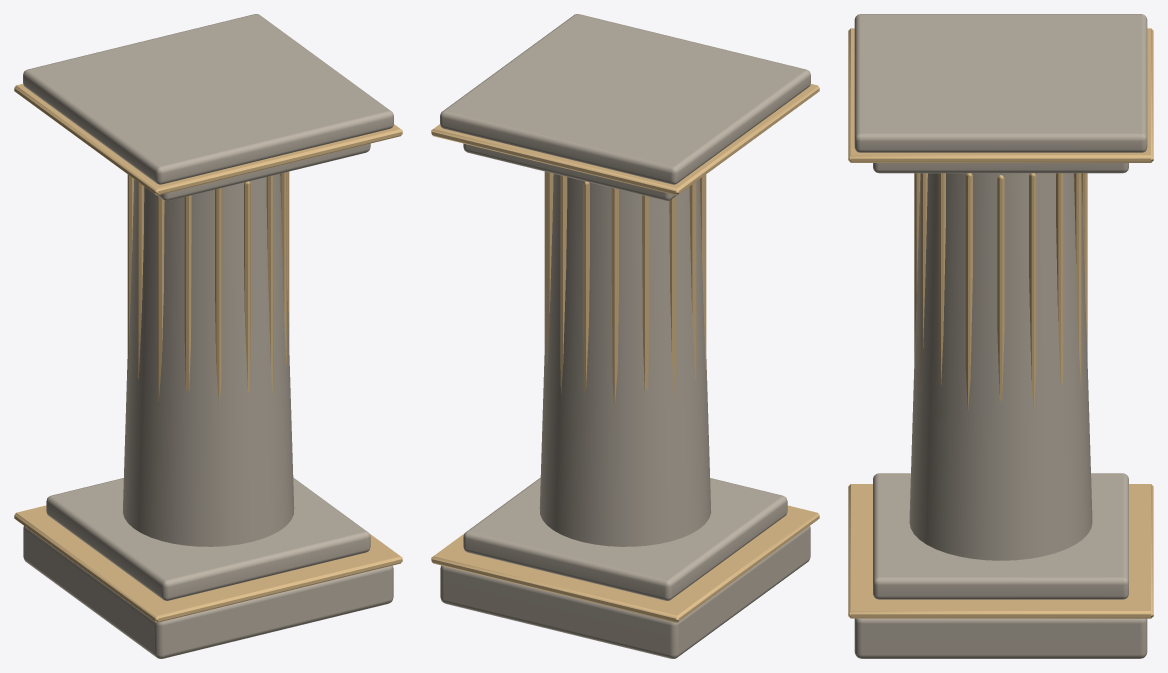
Rendered from pedestal.glb.
3 views of the same model, side by side, from view 1: azimuth 30°, elevation 25°; view 2: azimuth 150°, elevation 25°; view 3: azimuth 270°, elevation 25° (orthographic). The views are drawn at different scales.
Parts seen in each view (by area): view 1: pedestal_marbleLight, pedestal_brass; view 2: pedestal_marbleLight, pedestal_brass; view 3: pedestal_marbleLight, pedestal_brass.
Part boxes in pixels (box(x1,y1,x2,y2)): pedestal_marbleLight: box(23, 14, 393, 658); pedestal_brass: box(14, 84, 402, 622); pedestal_marbleLight: box(440, 14, 810, 658); pedestal_brass: box(431, 84, 819, 622); pedestal_marbleLight: box(854, 14, 1147, 658); pedestal_brass: box(848, 28, 1153, 618).
Size of the model in its own units: 0.5 by 0.9505 by 0.5.
